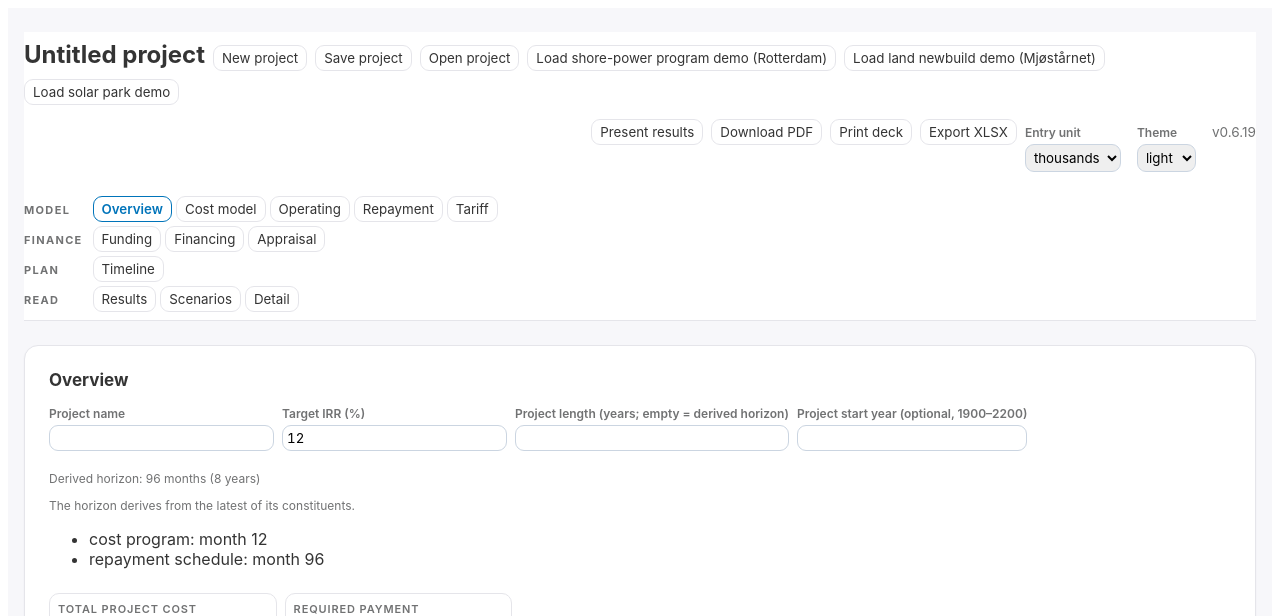
Test: v0.6.2 chunk 1: the cost model line totals (W3) › LT-1: the template line totals render through the money formatter at unit ones (v0.6.10 re-anchor: the program line totals, EUR)
Click the button "Load shore-power program demo (Rotterdam)".
click(682, 58)  # box x1=527 y1=45 x2=836 y2=71
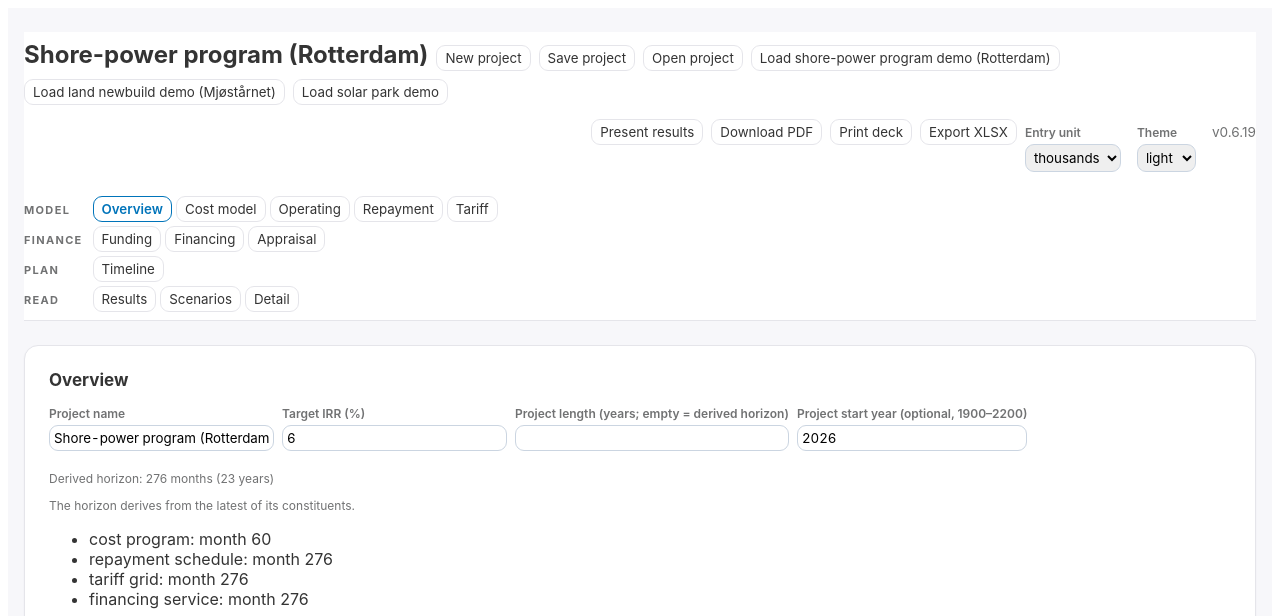
Select "ones" in the dropdown labelled "Entry unit" at (1073, 158), box x1=1025 y1=144 x2=1121 y2=172
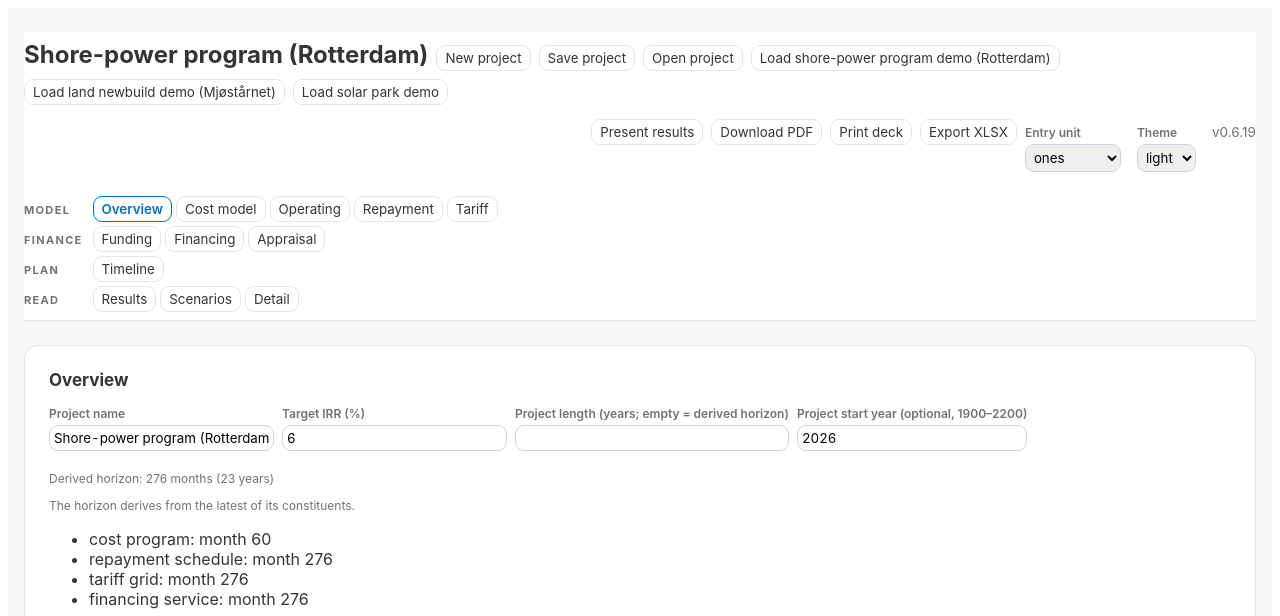
Click the button "Cost model".
click(221, 209)  # box x1=176 y1=196 x2=266 y2=222
(page scrolled)
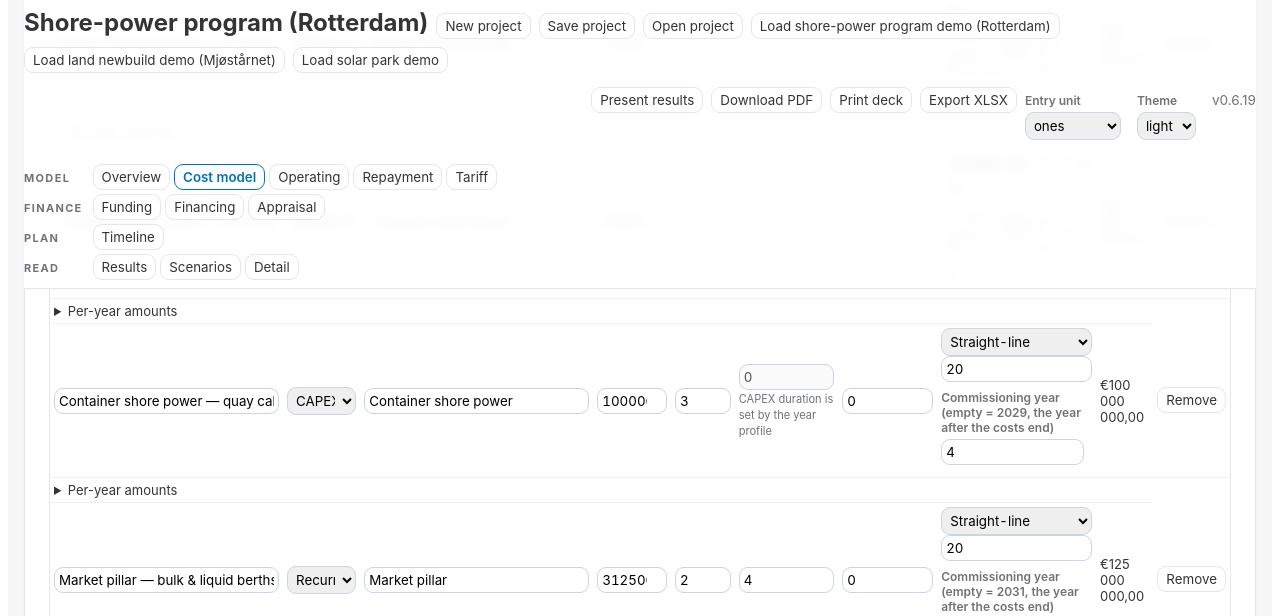
Check: the cell with test id "line-total" reads "€100 000 000,00", box x1=1100 y1=376 x2=1144 y2=424
